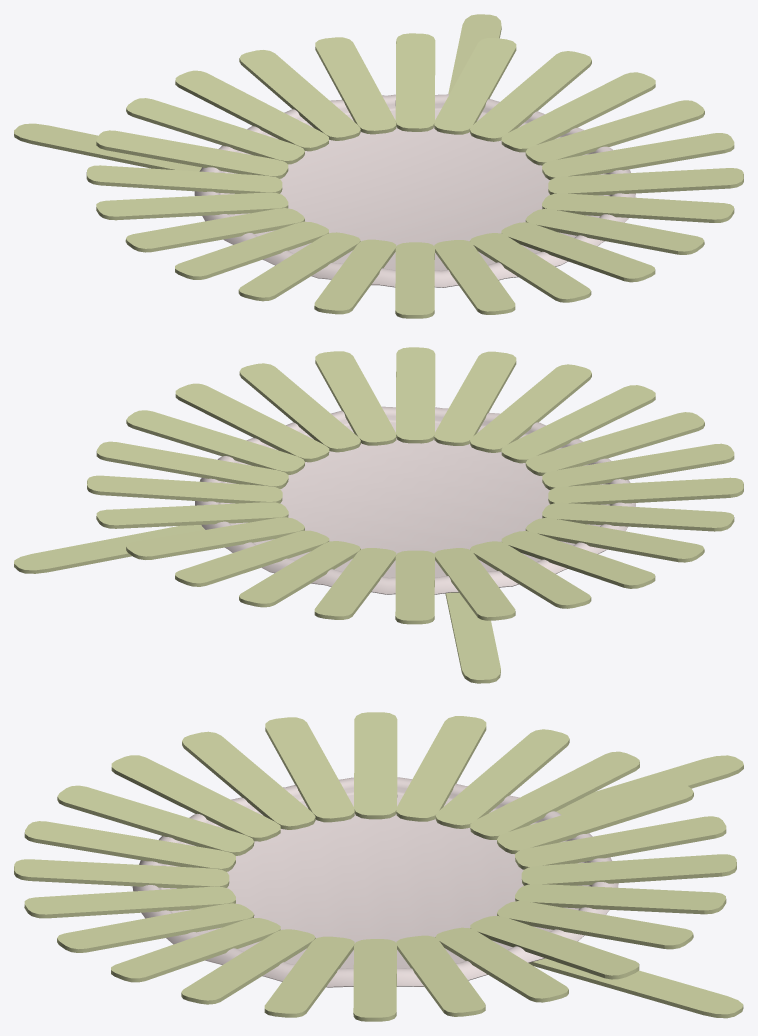
File: MortairTower_Head.fbx
3 renders of one model, top to bottom at view 1: azimuth 30°, elevation 25°; view 2: azimuth 150°, elevation 25°; view 3: azimuth 270°, elevation 25°, orthographic. The views are drawn at different scales.
Parts seen in each view (by area): view 1: Plane.101; view 2: Plane.101; view 3: Plane.101.
Part boxes in pixels (x1,y1,x2,y2): Plane.101: (14, 14, 743, 318); Plane.101: (14, 347, 743, 683); Plane.101: (14, 712, 743, 1021).
Bounding box in the file's own units: 2.9 × 0.1277 × 2.93.
